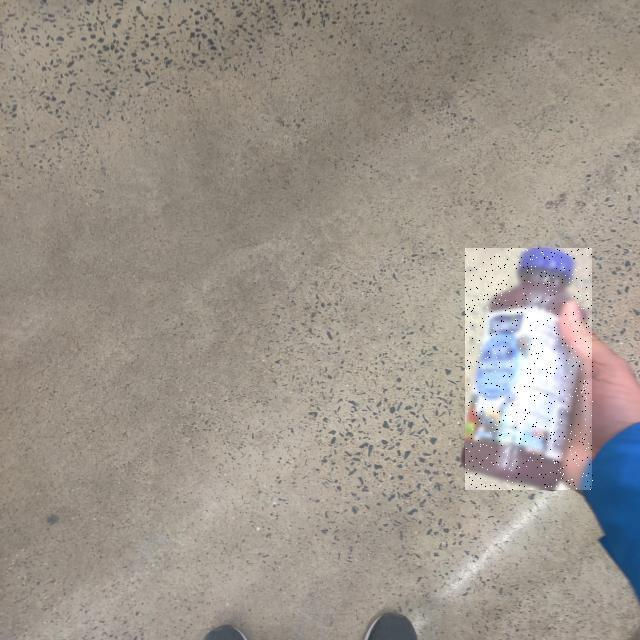Lettuce: (466, 248, 594, 490)
